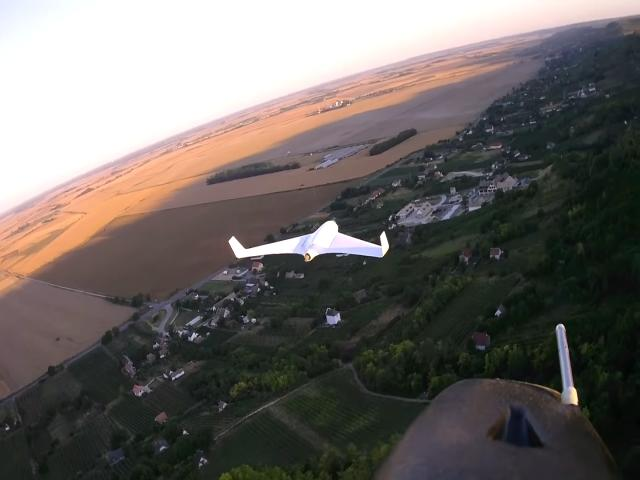plane: (228, 221, 388, 264)
